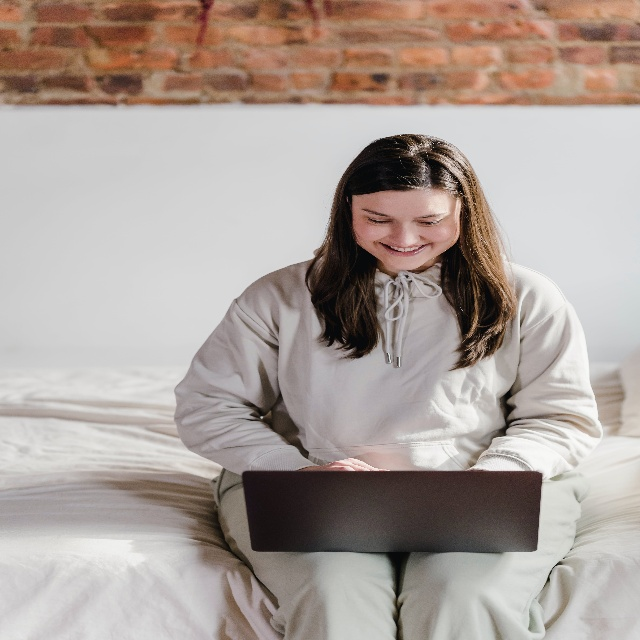Sin_guantes: (312, 457, 380, 472)
